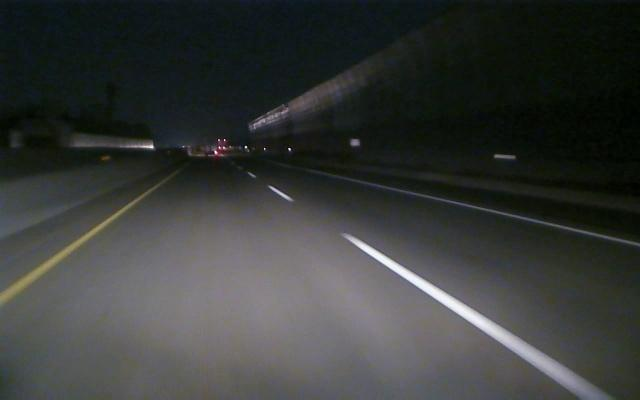lane: (253, 174, 611, 396), (343, 177, 640, 247), (2, 187, 154, 304)
